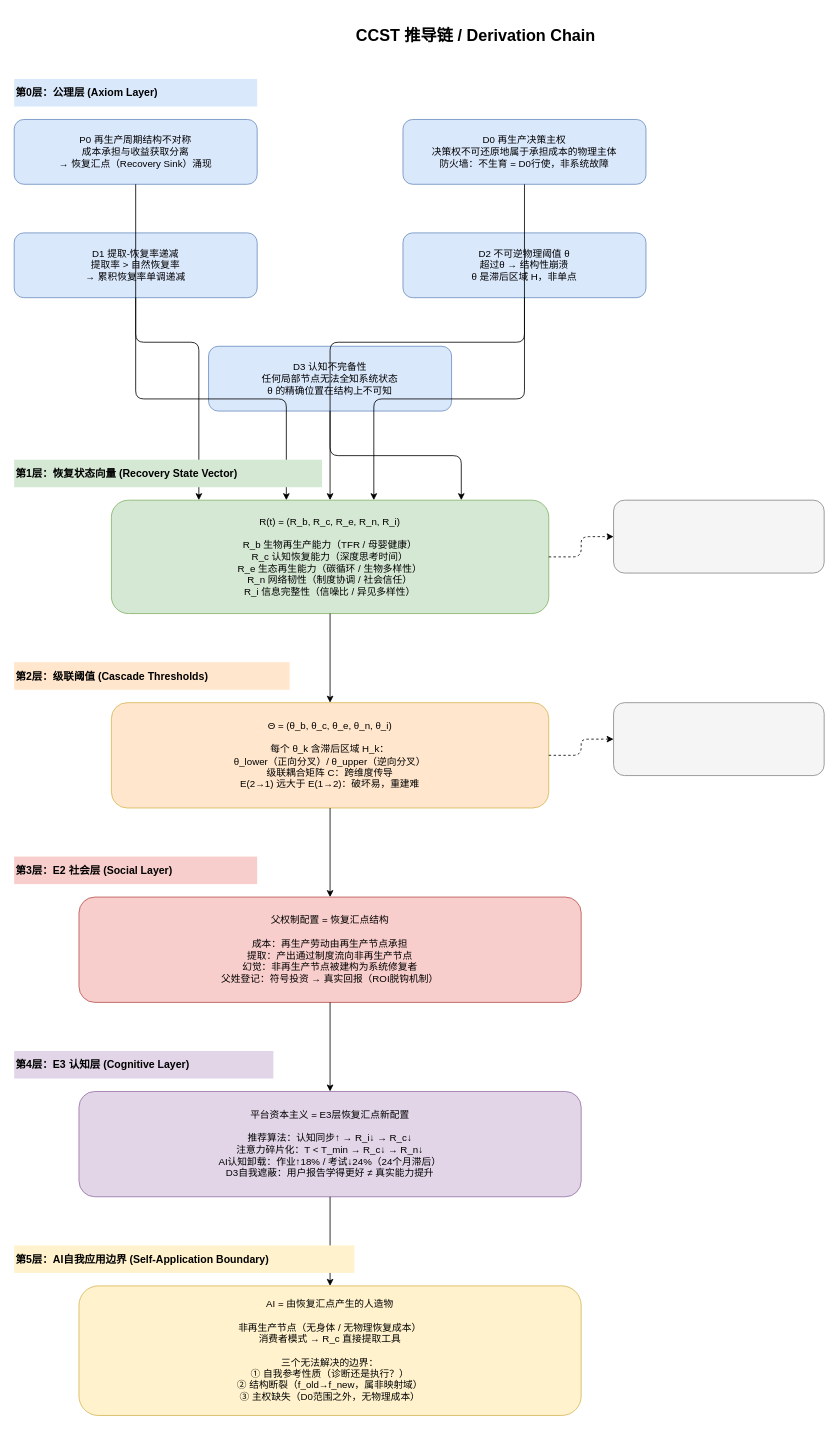
Some shapes in this 838 by 1430 pixel diagram are drawn without their labels. The shapes that lost their labels are listed below. From the top down, each one's centre as x and y in pixels, then its label:
At pixel 718 536: "恢复主义防火墙 CCST不主张恢复是最高价值 防止技术官僚主义 / 系统保守主义 D0最高含义：系统可选择不自维持".
At pixel 718 739: "非映射域 (MATH-1C) 审美 / 宗教 / 非功利艺术 / 无目的游戏 不可维度化 + 不可功能化 + 结构断裂 防止CCST成为万有理论".
